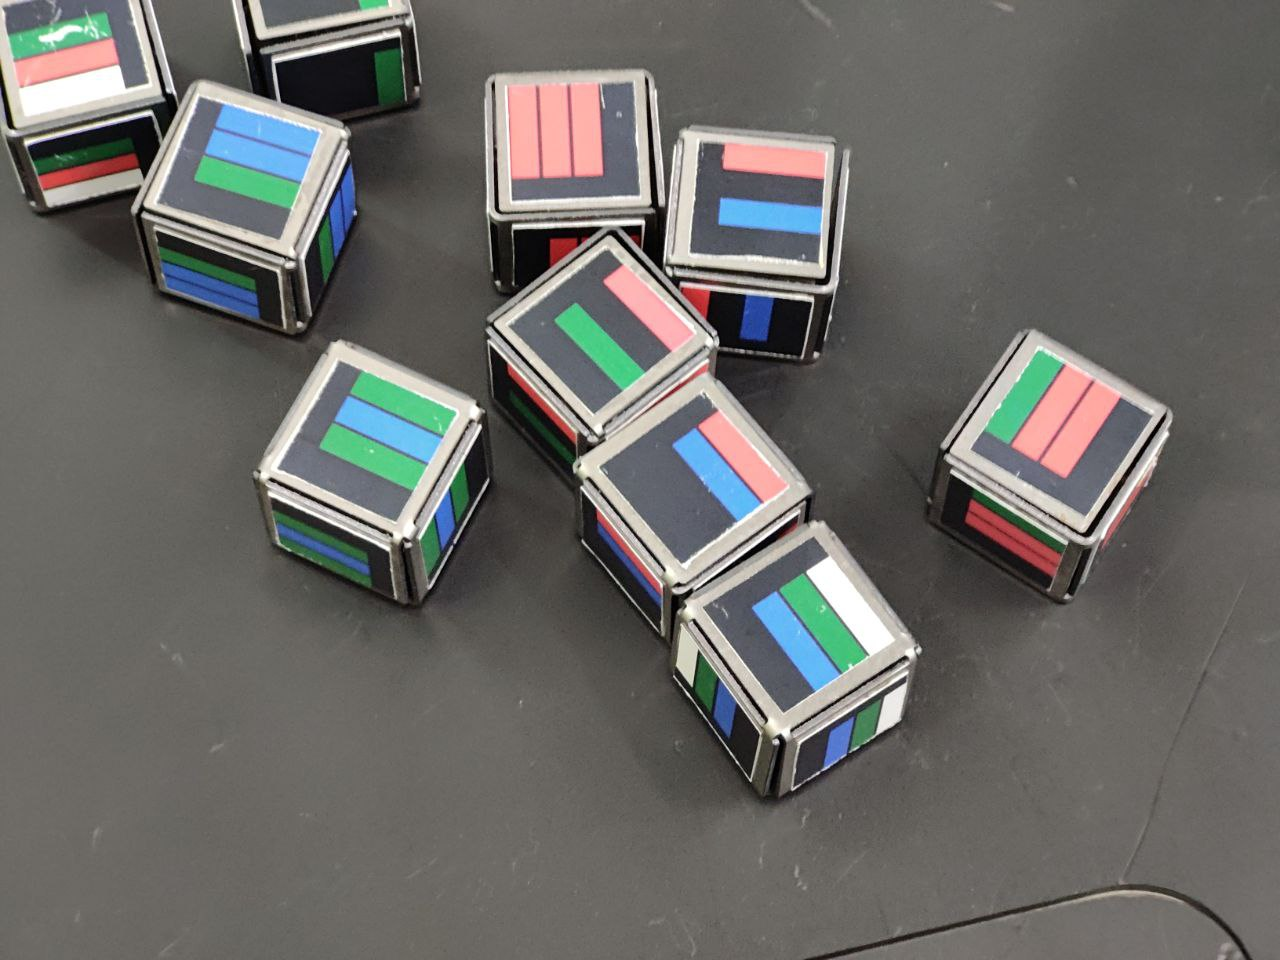Cube: (924, 311, 1200, 554), (564, 360, 823, 616), (665, 509, 933, 756), (479, 208, 727, 455), (246, 328, 494, 562), (115, 70, 368, 290), (644, 103, 862, 299), (463, 43, 677, 227), (0, 0, 191, 148)
